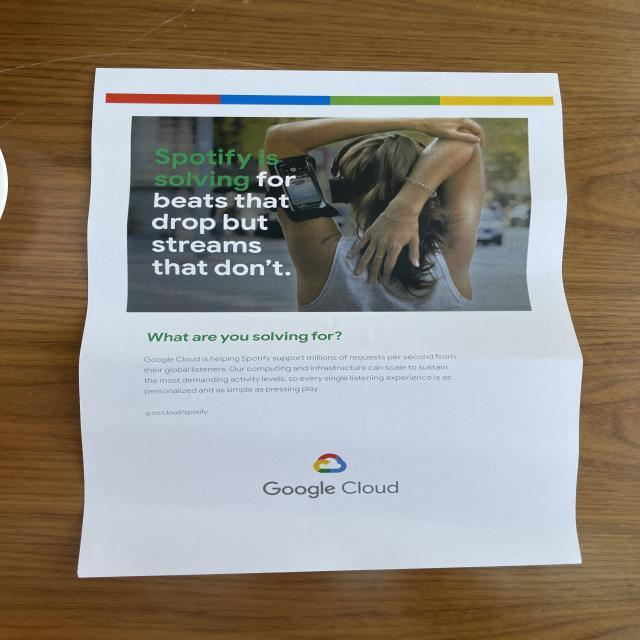document: (78, 69, 582, 576)
